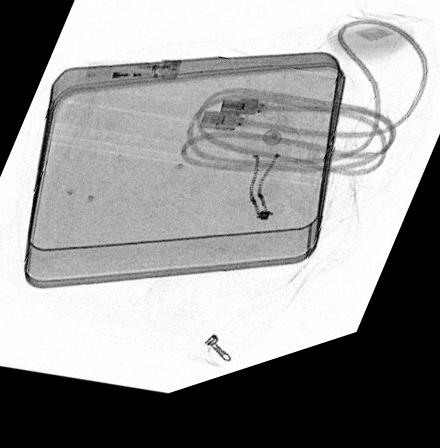Lighter: (82, 67, 180, 91)
